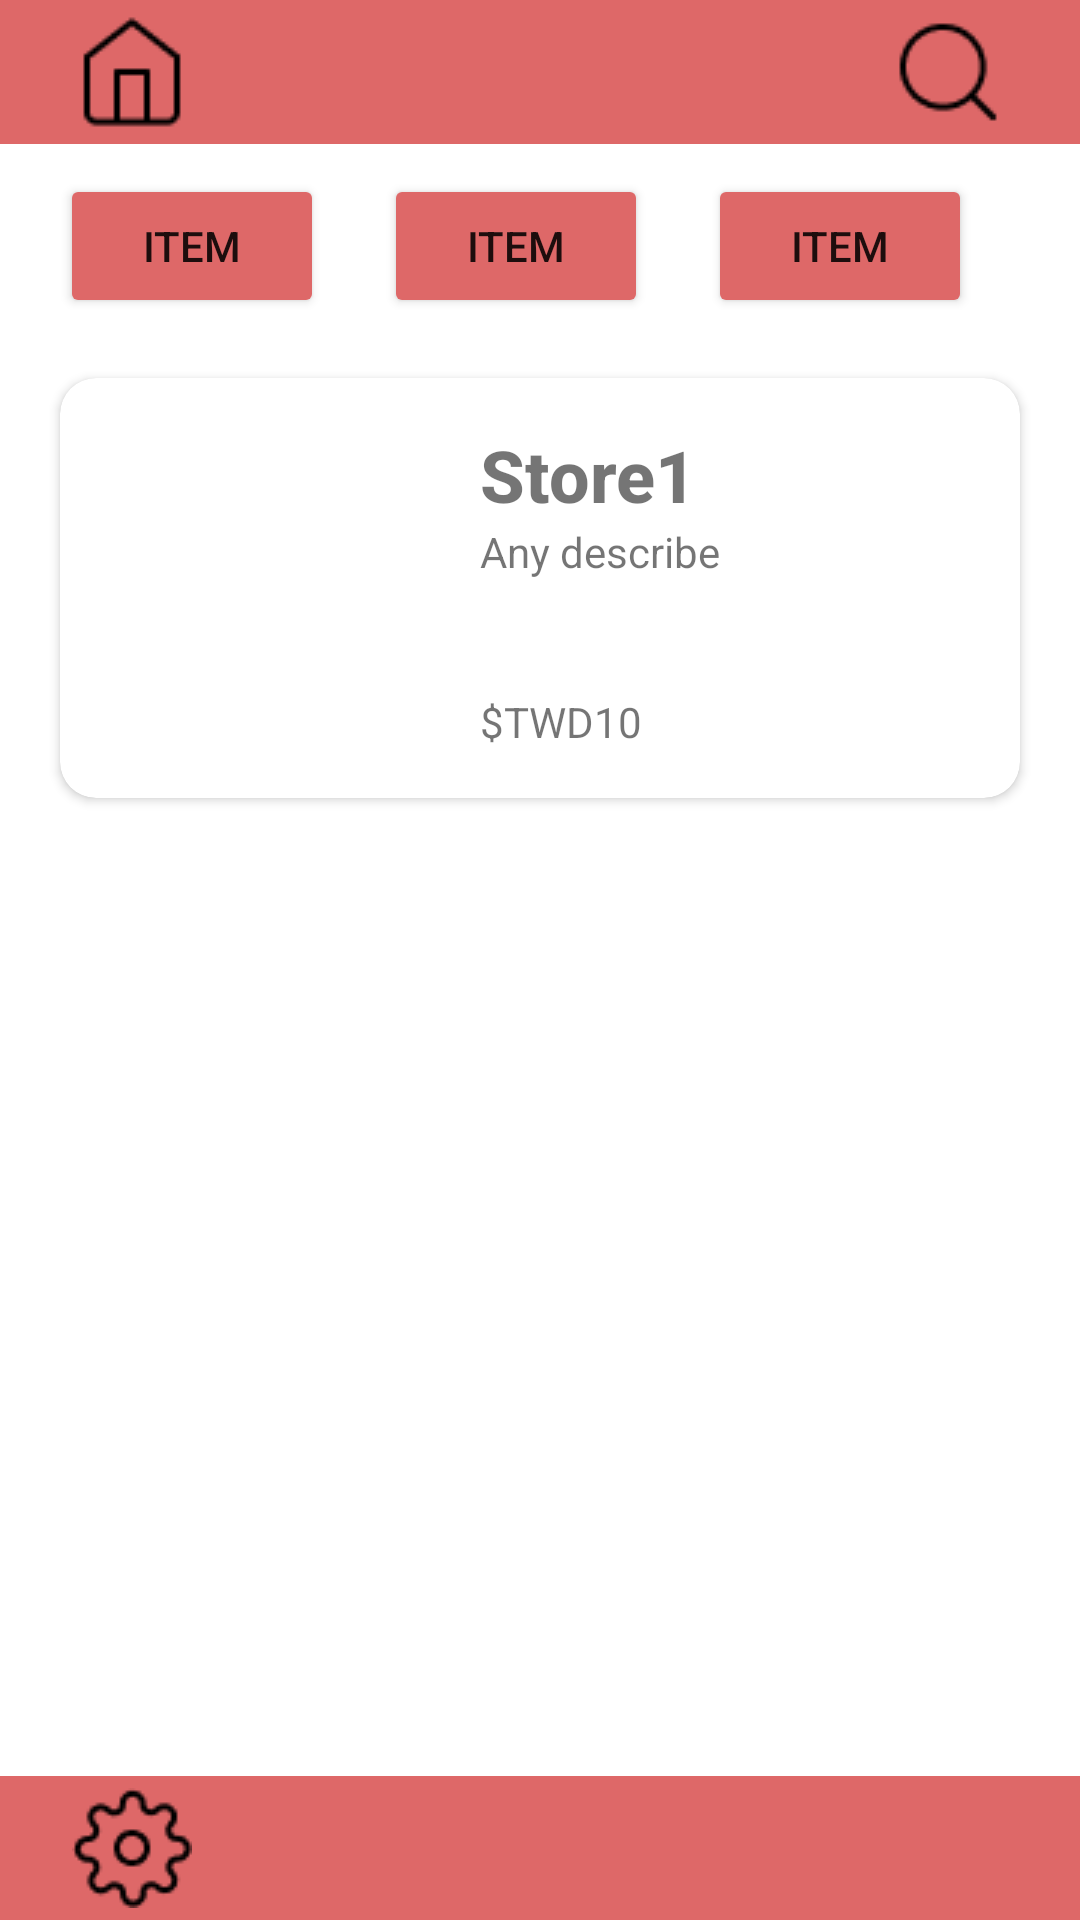

Icon click points for this 1080x1920 phone screenshot, format [x,y]:
home: [132,72]
search: [948,72]
settings: [132,1849]
